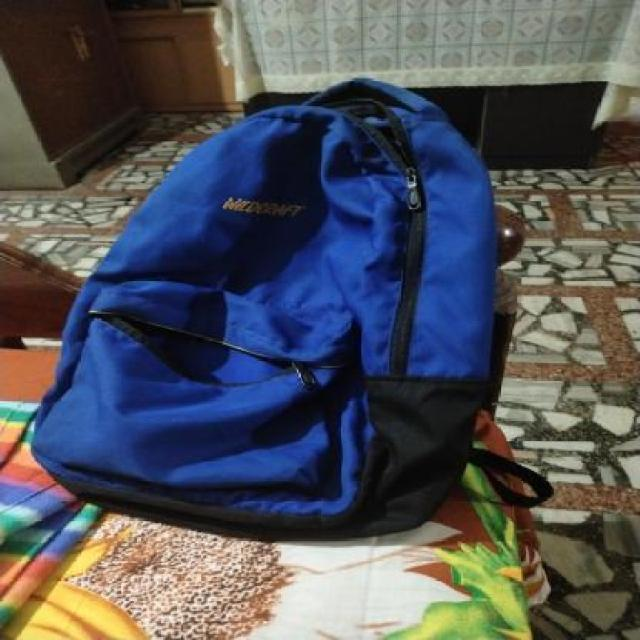backpack: (26, 72, 505, 546)
